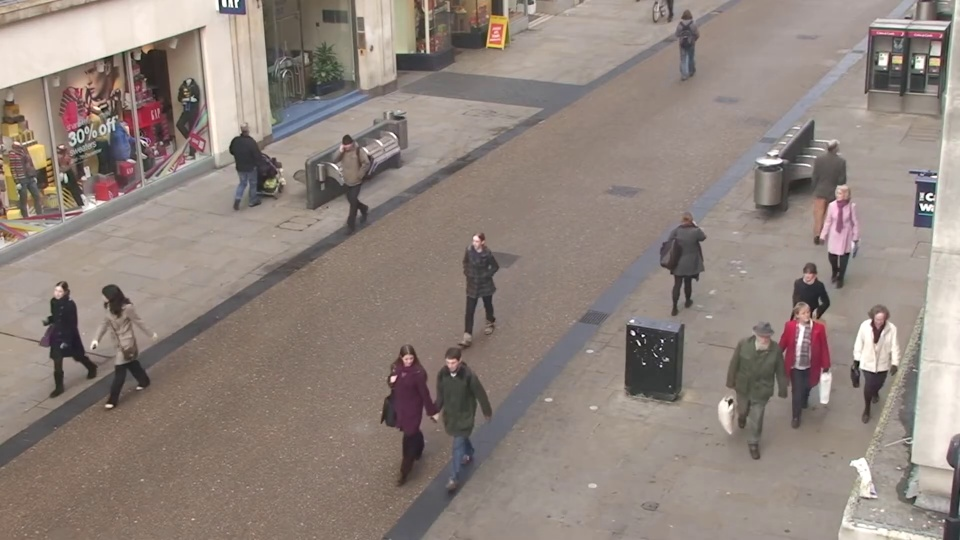pedestrian: (28, 276, 91, 412), (845, 303, 903, 450), (378, 341, 432, 494), (78, 282, 138, 419), (424, 349, 477, 504), (735, 323, 789, 474), (768, 297, 821, 441), (777, 261, 827, 396), (450, 230, 493, 358), (812, 185, 857, 300), (669, 203, 709, 323), (815, 133, 855, 234), (324, 133, 360, 233), (236, 113, 272, 206), (676, 7, 700, 73)
